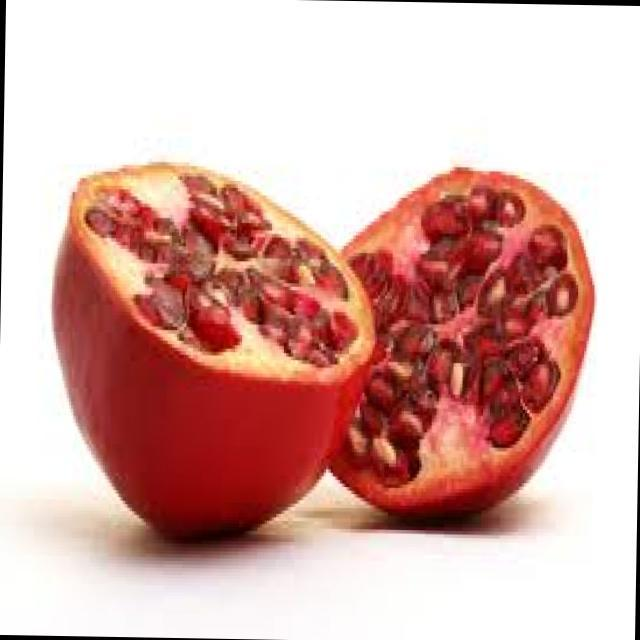Pomegranate: (328, 147, 604, 564), (58, 136, 378, 466)
